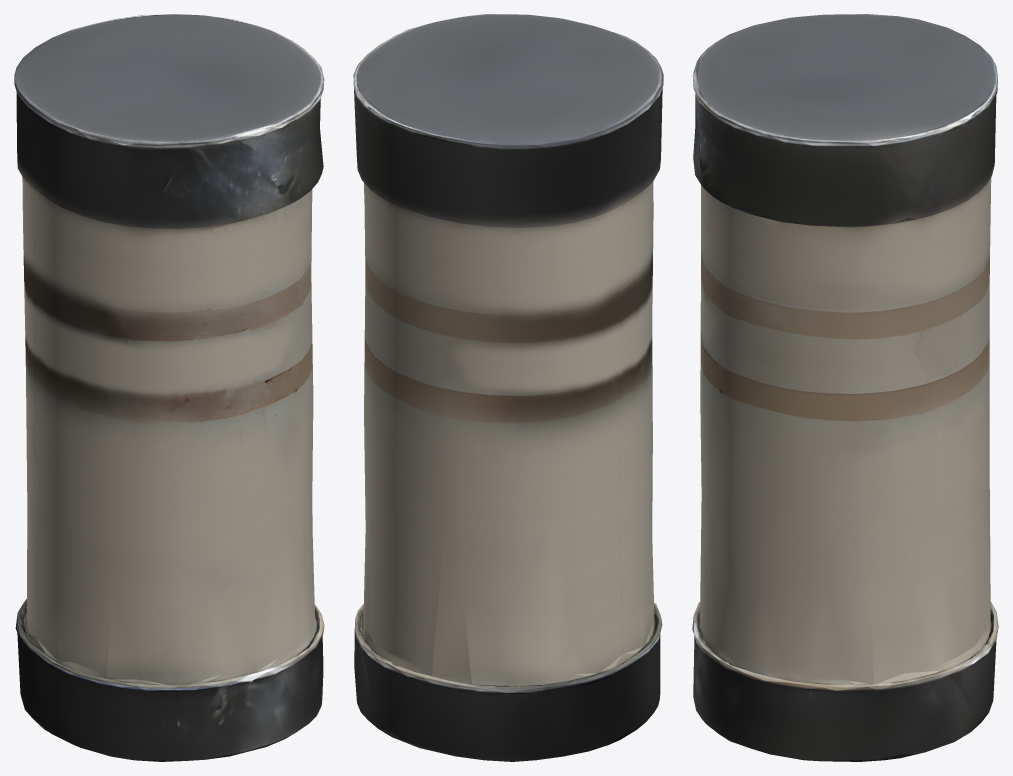
Rendered from fuse.fbx.
3 views of the same model, side by side, from view 1: azimuth 30°, elevation 25°; view 2: azimuth 150°, elevation 25°; view 3: azimuth 270°, elevation 25° (orthographic).
Parts seen in each view (by area): view 1: model; view 2: model; view 3: model.
Boxes of the visible parts, x1,y1,x2,y2 form: model: (14, 14, 324, 761); model: (353, 14, 663, 761); model: (692, 14, 998, 761).
Bounding box in the file's own units: 0.8285 × 1.88 × 0.8342.
Materials: 1 (1 with a texture image).
